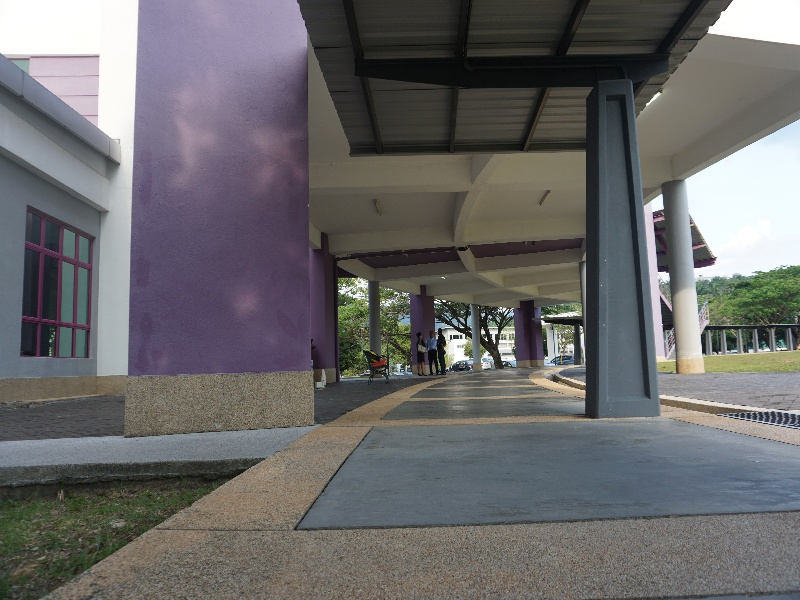Block D Pillar 1: (10, 6, 800, 472)
pillar: (130, 5, 318, 434), (583, 75, 662, 426), (659, 173, 710, 382), (303, 230, 350, 397), (363, 274, 391, 380), (512, 297, 549, 373), (463, 301, 485, 372)
